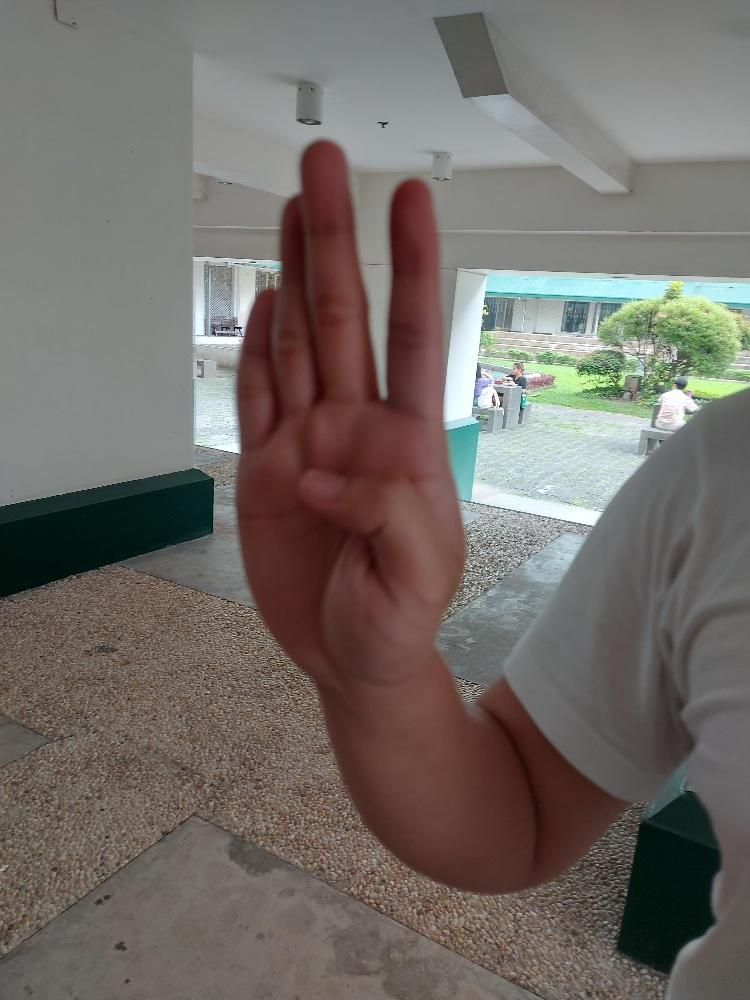b: (230, 133, 468, 679)
